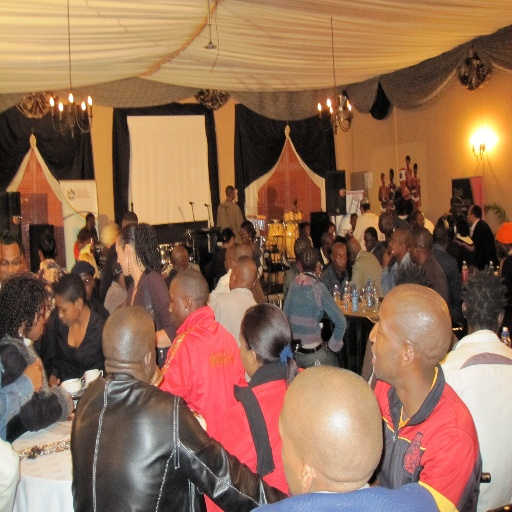hand: (20, 356, 43, 389), (147, 365, 164, 389), (382, 246, 394, 266), (48, 372, 61, 388), (70, 390, 72, 413)
